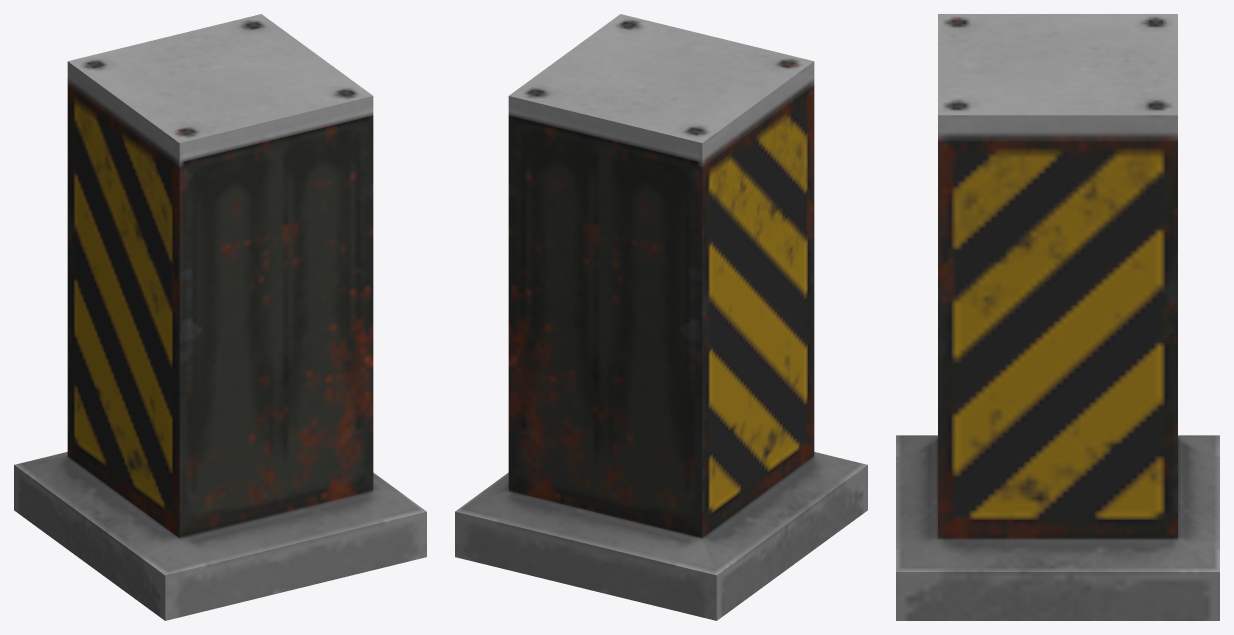
Rendered from CP_Bollard_Safety_01.fbx.
3 views of the same model, side by side, from view 1: azimuth 30°, elevation 25°; view 2: azimuth 150°, elevation 25°; view 3: azimuth 270°, elevation 25° (orthographic). The views are drawn at different scales.
Visible parts, largest first — view 1: CP_Bollard_Safety_01; view 2: CP_Bollard_Safety_01; view 3: CP_Bollard_Safety_01.
Part boxes in pixels (x1=…): CP_Bollard_Safety_01: x1=14, y1=14, x2=426, y2=620; CP_Bollard_Safety_01: x1=455, y1=14, x2=867, y2=620; CP_Bollard_Safety_01: x1=896, y1=14, x2=1219, y2=620.
Size of the model in its own units: 24.93 by 41.44 by 24.93.
